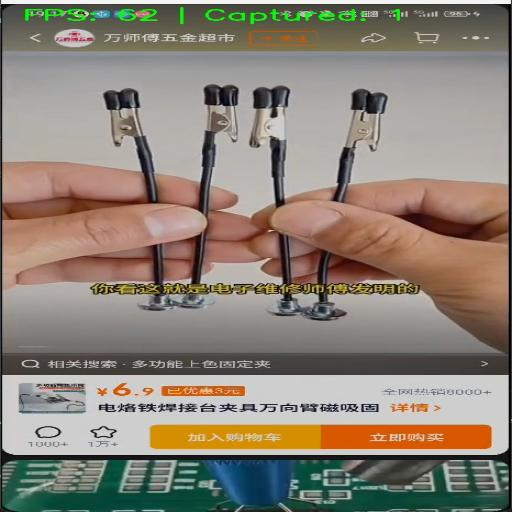back: (9, 26, 60, 51)
butten: (5, 415, 78, 454), (382, 389, 442, 415), (446, 28, 503, 49)
